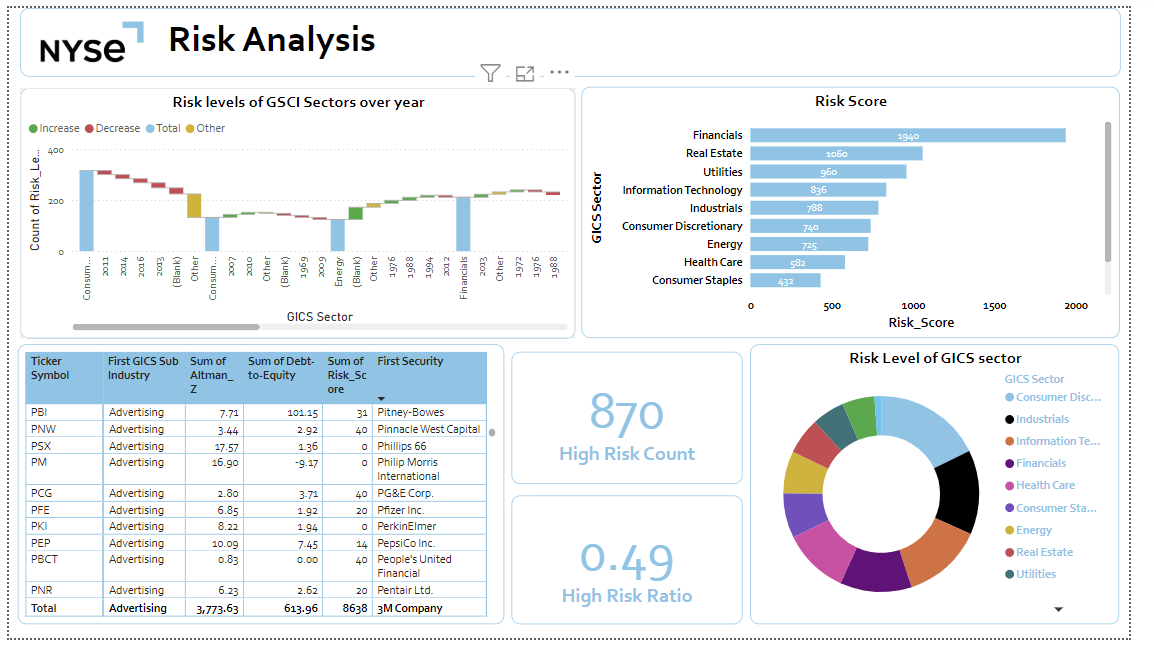

The dashboard page shown, as its layout file describes it:
{"tool":"powerbi","page":{"name":"Risk Analysis","canvas":[1280,720],"ordinal":2},"visuals":[{"type":"group","id":"g1","title":"Group 1","box":[12.5,0,1257.5,78.8],"z":0},{"type":"donutChart","title":"Risk Level of GICS sector","fields":{"Category":["fundamentals_with_risk_scores.GICS Sector"],"Y":["CountNonNull(fundamentals_with_risk_scores.Risk_Level)"]},"box":[847.4,384,421.9,320.4],"z":1000},{"type":"barChart","title":"Risk Score ","fields":{"Y":["Sum(fundamentals_with_risk_scores.Risk_Score)"],"Category":["cleaned_securities.GICS Sector"]},"box":[654.2,90.5,615.1,287.4],"z":2000},{"type":"pivotTable","title":"Reason of Track Played","fields":{"Rows":["fundamentals_with_risk_scores.Ticker Symbol"],"Values":["Min(cleaned_securities.GICS Sub Industry)","Sum(fundamentals_with_risk_scores.Altman_Z)","Sum(fundamentals_with_risk_scores.Debt-to-Equity)","Sum(fundamentals_with_risk_scores.Risk_Score)","Min(fundamentals_with_risk_scores.Security)"]},"box":[10,384.3,555.7,320],"z":3000},{"type":"textbox","box":[12.5,0,1257.5,78.8],"z":4000,"group":"g2"},{"type":"waterfallChart","title":"Risk levels of GSCI Sectors over year","fields":{"Category":["cleaned_securities.GICS Sector"],"Y":["CountNonNull(fundamentals_with_risk_scores.Risk_Level)"],"Breakdown":["fundamentals_with_risk_scores.Date first added.Variation.Date Hierarchy.Year"]},"box":[12.2,91.7,634.7,286.1],"z":4000},{"type":"card","fields":{"Values":["fundamentals_with_risk_scores.High Risk Count"]},"box":[574.3,392.9,264.3,151.4],"z":5000},{"type":"group","id":"g2","title":"Group 2","box":[12.5,0,1257.5,78.8],"z":5001,"group":"g1"},{"type":"card","fields":{"Values":["cleaned_fundamentals.High Risk Ratio"]},"box":[574.3,557.1,264.3,147.1],"z":6000},{"type":"image","box":[30.6,4.9,127.2,68.5],"z":8000,"group":"g2"}]}

Visuals, with their boxes in screenshot pixels (x1, y1, x2, y2), scaled from the page's 1280x720 canvas onto the 1154x648 screenshot:
"Group 1" group: x1=11, y1=0, x2=1145, y2=71
"Risk Level of GICS sector" donutChart: x1=764, y1=346, x2=1144, y2=634
"Risk Score " barChart: x1=590, y1=81, x2=1144, y2=340
"Reason of Track Played" pivotTable: x1=9, y1=346, x2=510, y2=634
textbox: x1=11, y1=0, x2=1145, y2=71
"Risk levels of GSCI Sectors over year" waterfallChart: x1=11, y1=83, x2=583, y2=340
card - fundamentals_with_risk_scores.High Risk Count: x1=518, y1=354, x2=756, y2=490
"Group 2" group: x1=11, y1=0, x2=1145, y2=71
card - cleaned_fundamentals.High Risk Ratio: x1=518, y1=501, x2=756, y2=634
image: x1=28, y1=4, x2=142, y2=66
